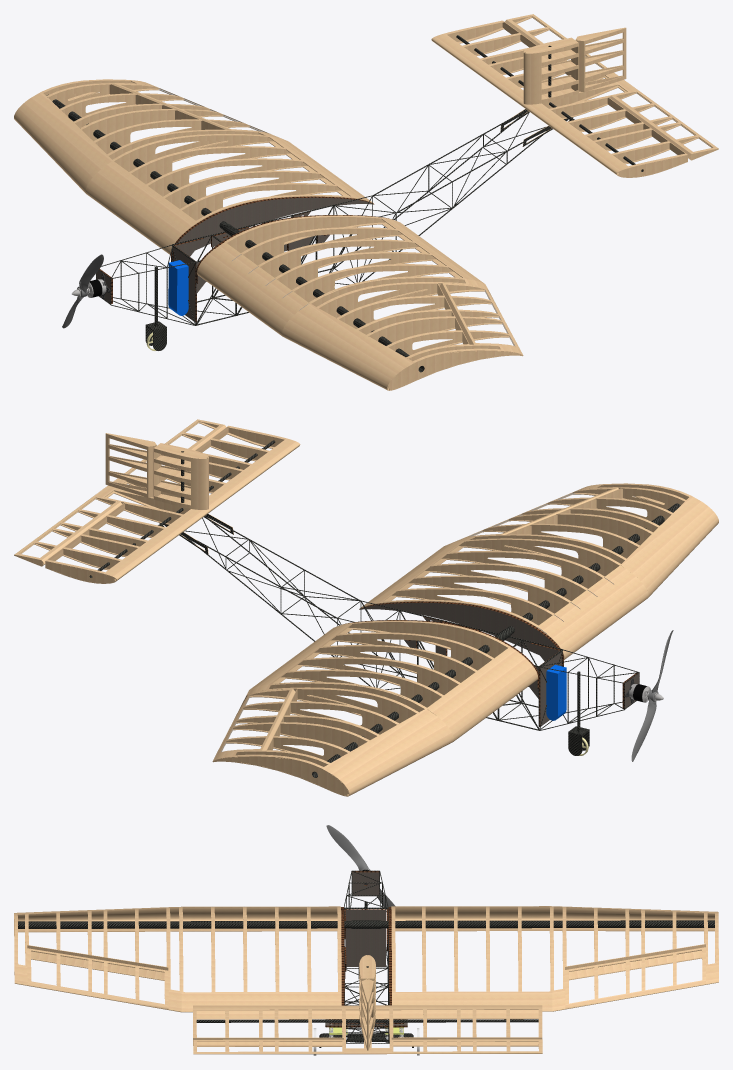
File: AeronaveDB2022.glb
The picture shows the model from 3 angles, top to bottom: view 1: azimuth 30°, elevation 25°; view 2: azimuth 150°, elevation 25°; view 3: azimuth 270°, elevation 25°; orthographic projection. The views are drawn at different scales.
Visible parts, largest first — view 1: Nervuras - R-S, Nervuras - S-P, Bordo At Sup - R-S, Bordo At Sup - S-P, Capstrips Sup - R-S, Nervuras - EH, Capstrips Sup - S-P, Sólido2 (×2), Nervura Honeycomb, Bordo At Sup, Bordo Fu Sup - R-S, Capstrips Sup (+16 smaller); view 2: Nervuras - R-S, Nervuras - S-P, Bordo At Sup - R-S, Bordo At Sup - S-P, Capstrips Sup - R-S, Nervuras - EH, Capstrips Sup - S-P, Nervura Honeycomb, Sólido2 (×2), Bordo At Sup, Bordo Fu Sup - R-S, Capstrips Sup (+16 smaller); view 3: Longarina, Bordo Fu Sup - R-S, Capstrips Sup - R-S, Bordo At Sup - R-S, Capstrips Sup - S-P, Bordo At Sup - S-P, Bordo At Inf, Sólido1 (×3), Bordo At Inf - Aileron, Bordo At Inf - R-S, Bordo At Sup, Bordo At Inf - S-P (+18 smaller).
Part boxes in pixels (x1=…): Nervuras - R-S: x1=114, y1=135, x2=453, y2=302; Nervuras - S-P: x1=44, y1=81, x2=522, y2=390; Bordo At Sup - R-S: x1=85, y1=161, x2=309, y2=334; Bordo At Sup - S-P: x1=14, y1=91, x2=414, y2=389; Capstrips Sup - R-S: x1=113, y1=134, x2=463, y2=302; Nervuras - EH: x1=448, y1=23, x2=687, y2=177; Capstrips Sup - S-P: x1=42, y1=79, x2=501, y2=362; Sólido2 (×2): x1=96, y1=109, x2=549, y2=325; Nervura Honeycomb: x1=171, y1=196, x2=388, y2=283; Bordo At Sup: x1=431, y1=33, x2=629, y2=173; Bordo Fu Sup - R-S: x1=267, y1=136, x2=484, y2=283; Capstrips Sup: x1=445, y1=20, x2=687, y2=168; Nervuras - R-S: x1=281, y1=540, x2=618, y2=707; Nervuras - S-P: x1=214, y1=485, x2=688, y2=795; Bordo At Sup - R-S: x1=426, y1=565, x2=648, y2=740; Bordo At Sup - S-P: x1=321, y1=495, x2=718, y2=795; Capstrips Sup - R-S: x1=271, y1=539, x2=620, y2=708; Nervuras - EH: x1=45, y1=428, x2=283, y2=583; Capstrips Sup - S-P: x1=234, y1=483, x2=690, y2=768; Nervura Honeycomb: x1=345, y1=601, x2=563, y2=688; Sólido2 (×2): x1=184, y1=515, x2=639, y2=730; Bordo At Sup: x1=103, y1=438, x2=300, y2=579; Bordo Fu Sup - R-S: x1=250, y1=541, x2=464, y2=689; Capstrips Sup: x1=45, y1=426, x2=286, y2=573; Longarina: x1=18, y1=920, x2=714, y2=928; Bordo Fu Sup - R-S: x1=181, y1=991, x2=552, y2=1012; Capstrips Sup - R-S: x1=181, y1=906, x2=552, y2=991; Bordo At Sup - R-S: x1=181, y1=906, x2=551, y2=918; Capstrips Sup - S-P: x1=14, y1=906, x2=718, y2=991; Bordo At Sup - S-P: x1=14, y1=906, x2=718, y2=921; Bordo At Inf: x1=196, y1=1010, x2=538, y2=1019; Sólido1 (×3): x1=319, y1=909, x2=413, y2=1047; Bordo At Inf - Aileron: x1=31, y1=950, x2=702, y2=980; Bordo At Inf - R-S: x1=183, y1=918, x2=549, y2=931; Bordo At Sup: x1=193, y1=1005, x2=542, y2=1010; Bordo At Inf - S-P: x1=18, y1=918, x2=714, y2=932.
Size of the model in its own units: 1.64 by 0.6076 by 1.9.
Materials: 26 (11 with a texture image).
